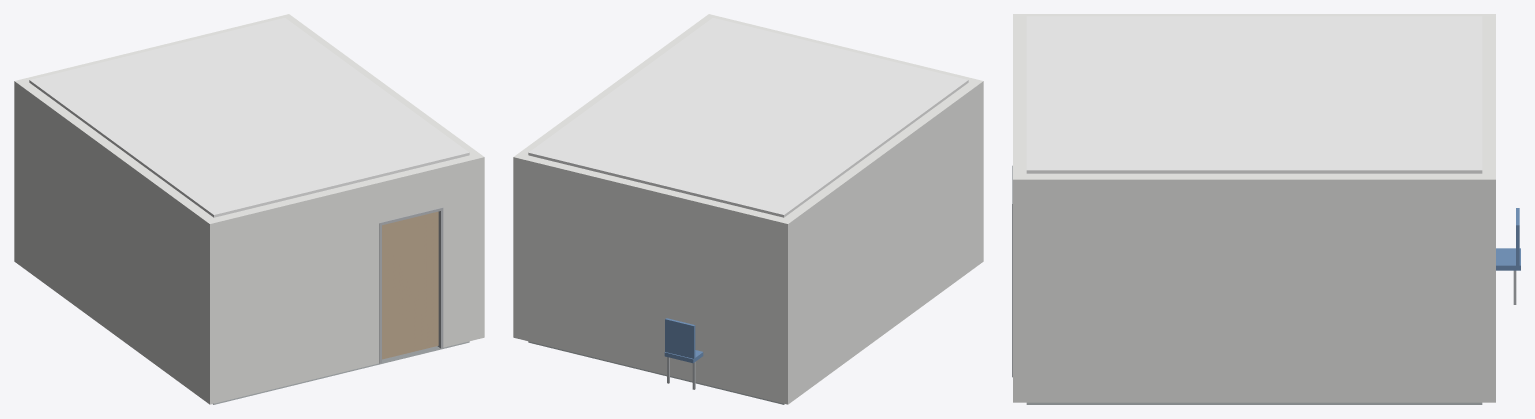
3 views of the same model, side by side, from view 1: azimuth 30°, elevation 25°; view 2: azimuth 150°, elevation 25°; view 3: azimuth 270°, elevation 25° (orthographic). The views are drawn at different scales.
Parts seen in each view (by area): view 1: demo-0006, demo-0003, demo-0005, demo-0007, demo-0002, demo-0004, demo-0001; view 2: demo-0002, demo-0006, demo-0005, demo-0003, demo-0010, demo-0004, demo-0001; view 3: demo-0004, demo-0006, demo-0002, demo-0003, demo-0001, demo-0005, demo-0010.
Boxes of the visible parts, box(x1,y1,x2,y2) form: demo-0006: box(29, 18, 469, 217); demo-0003: box(204, 153, 484, 404); demo-0005: box(20, 82, 213, 400); demo-0007: box(379, 207, 443, 363); demo-0002: box(14, 14, 293, 265); demo-0004: box(288, 18, 478, 155); demo-0001: box(213, 341, 469, 404); demo-0002: box(513, 153, 793, 404); demo-0006: box(528, 18, 968, 217); demo-0005: box(784, 82, 977, 400); demo-0003: box(704, 14, 983, 265); demo-0010: box(664, 318, 703, 389); demo-0004: box(519, 18, 709, 155); demo-0001: box(528, 341, 784, 404); demo-0004: box(1026, 173, 1482, 402); demo-0006: box(1026, 16, 1482, 173); demo-0002: box(1482, 14, 1495, 402); demo-0003: box(1013, 14, 1026, 402); demo-0001: box(1026, 402, 1482, 404); demo-0005: box(1026, 14, 1482, 16); demo-0010: box(1496, 208, 1520, 304).
Bounding box in the file's own units: 4.3 × 2.84 × 5.59.
